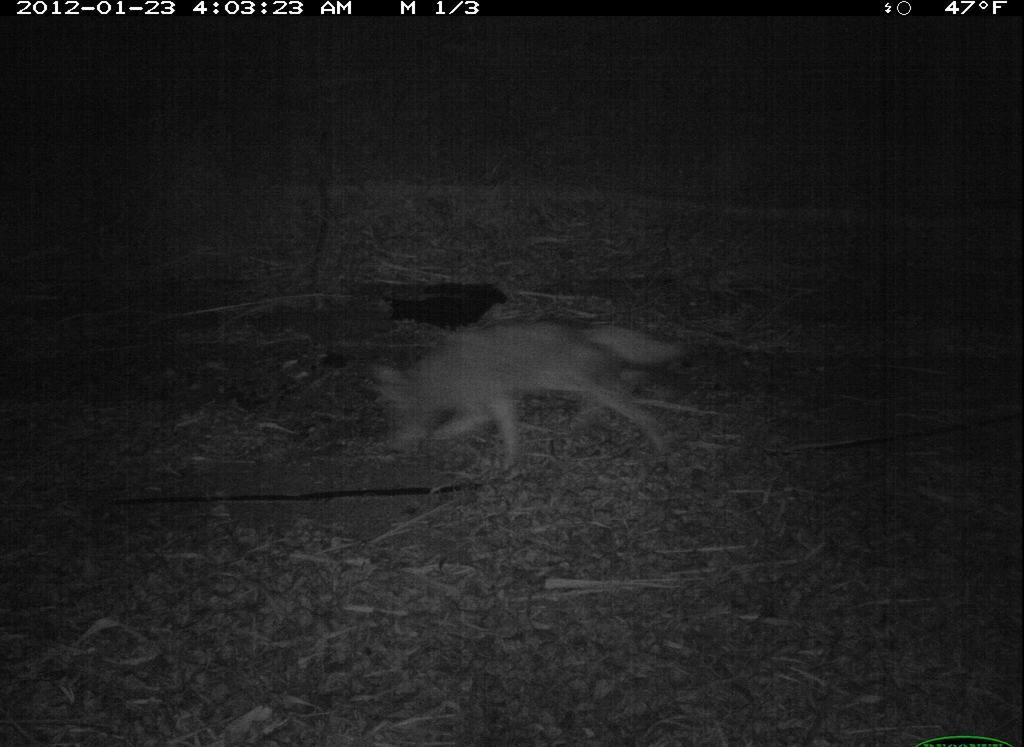coyote: (361, 309, 705, 493)
